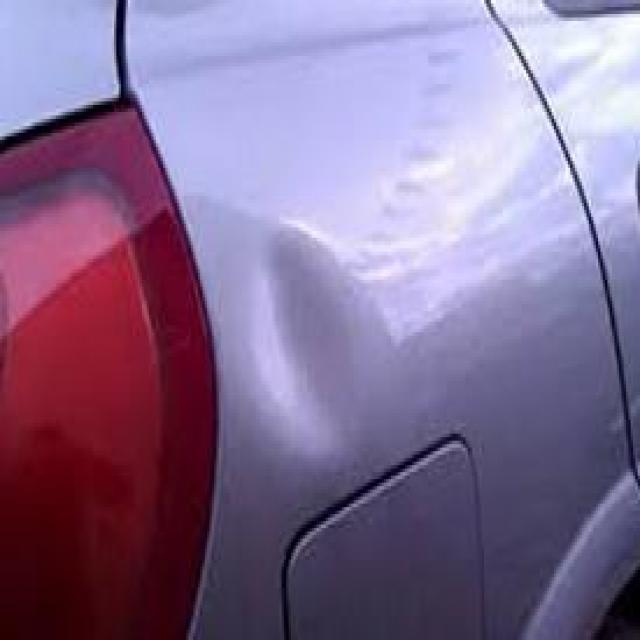dent: (238, 208, 400, 463)
